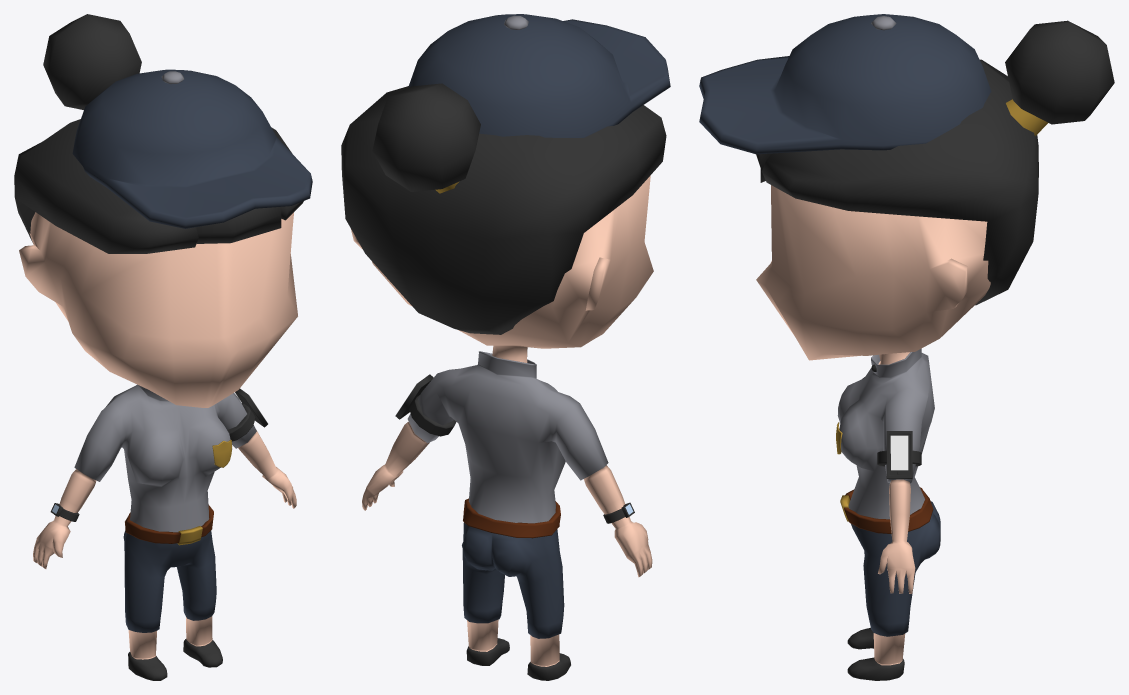
The model's file is Officer_Wen_Blockout v4.2.fbx.
The picture shows the model from 3 angles, left to right: view 1: azimuth 30°, elevation 25°; view 2: azimuth 150°, elevation 25°; view 3: azimuth 270°, elevation 25°; orthographic projection. The views are drawn at different scales.
Parts seen in each view (by area): view 1: Officer.Wen; view 2: Officer.Wen; view 3: Officer.Wen.
Part boxes in pixels (x1,y1,x2,y2): Officer.Wen: (14, 14, 312, 680); Officer.Wen: (341, 14, 670, 680); Officer.Wen: (699, 14, 1114, 680).
Size of the model in its own units: 287 by 639 by 375.
